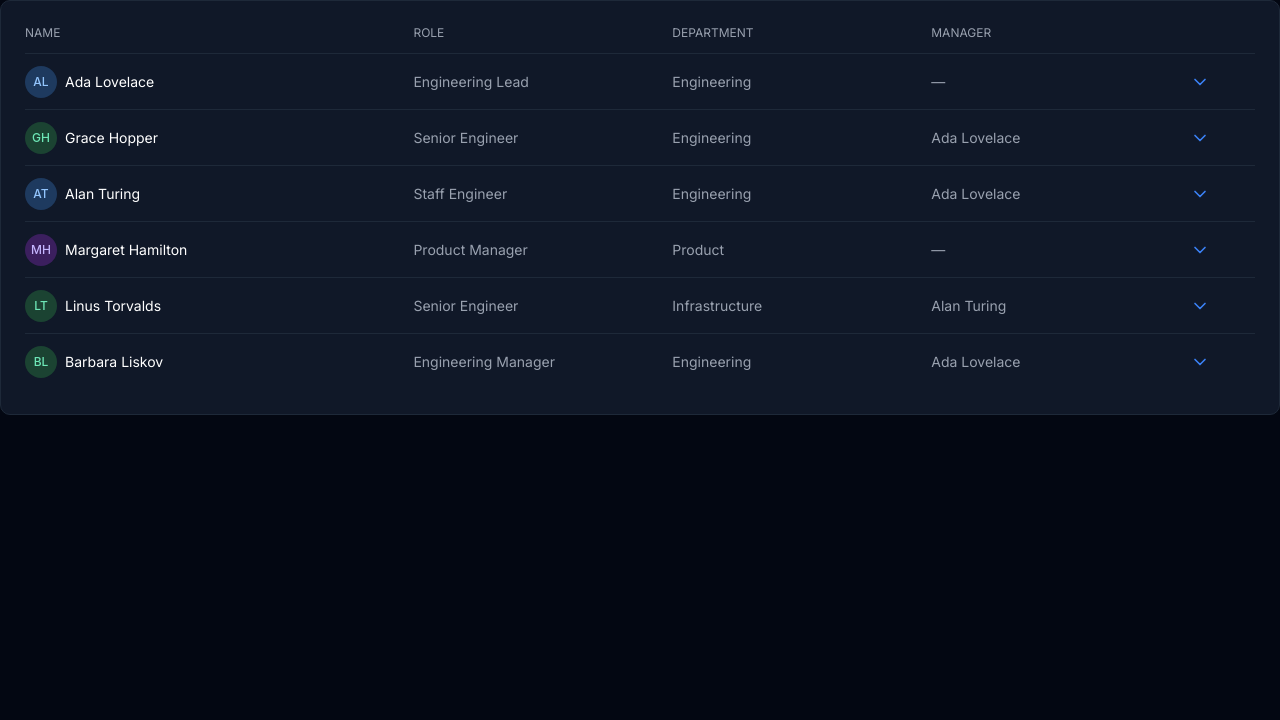
Scenario: Expanding a row shows the inline detail panel › clicking the expand button makes the detail panel visible
The width and height of the screenshot is (1280, 720).
Click the button named "Expand Ada Lovelace" at (1200, 82), box [1190, 72, 1210, 92]
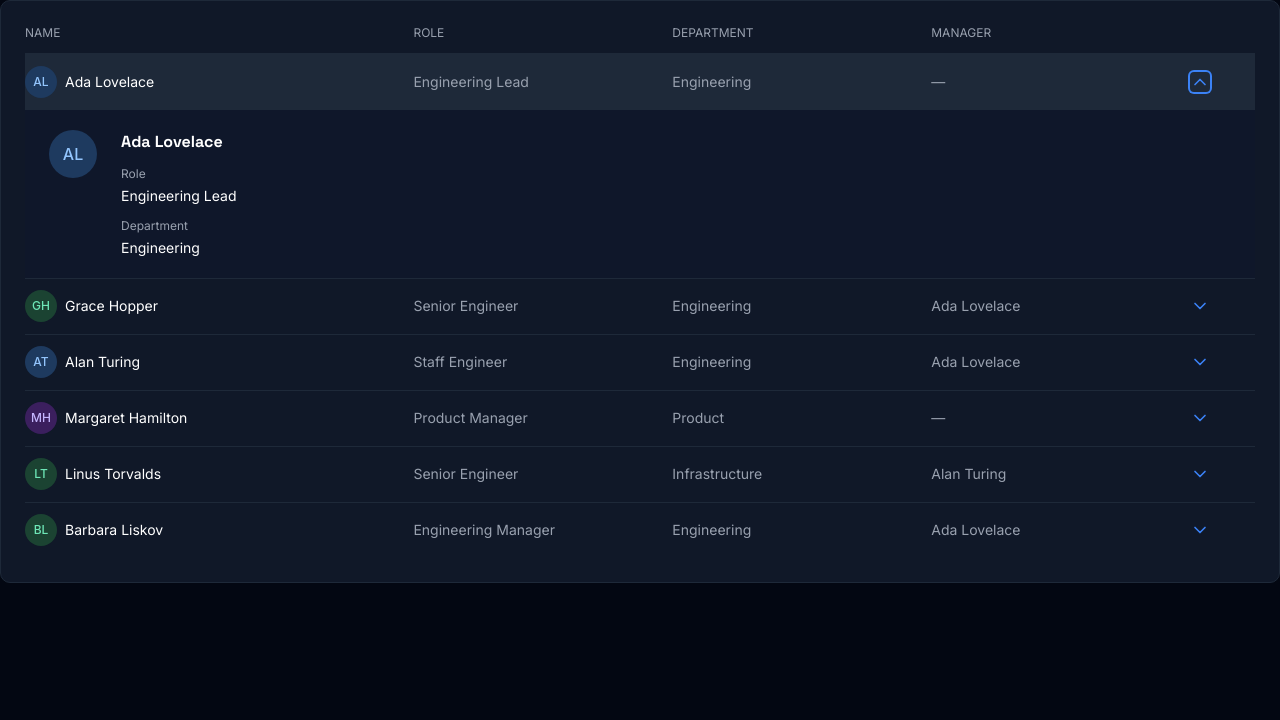
Expected: the cell with id "detail-emp-1" is shown, [25, 110, 1255, 278]
